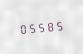eight: (45, 19, 53, 32)
five: (54, 18, 62, 32), (27, 21, 35, 34), (36, 20, 44, 33)
zero: (18, 22, 26, 35)
